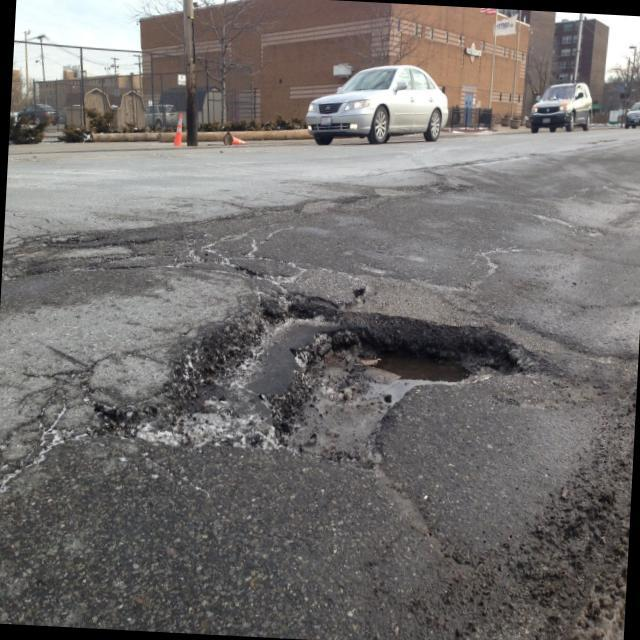Pothole: (92, 264, 519, 488), (10, 225, 154, 272)
